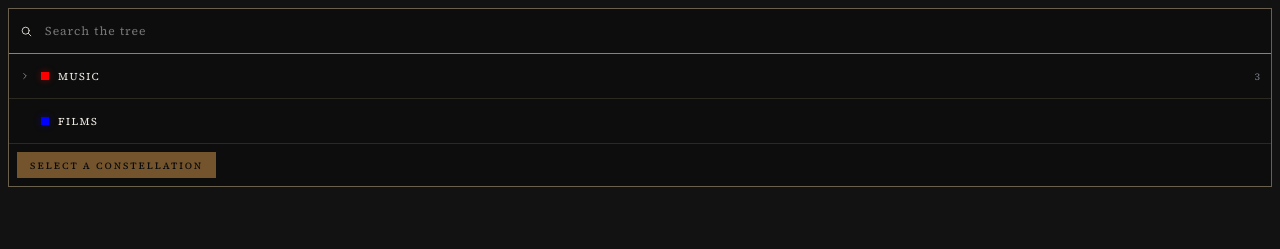
Scenario: ConstellationPicker › search in the tree › keeps the tree, unfolds the branches to the matches, marks them and selects the first
Step 1. Type "jaz" into the field labelled "Search the tree" → x=654, y=31, box [37,9,1271,53]
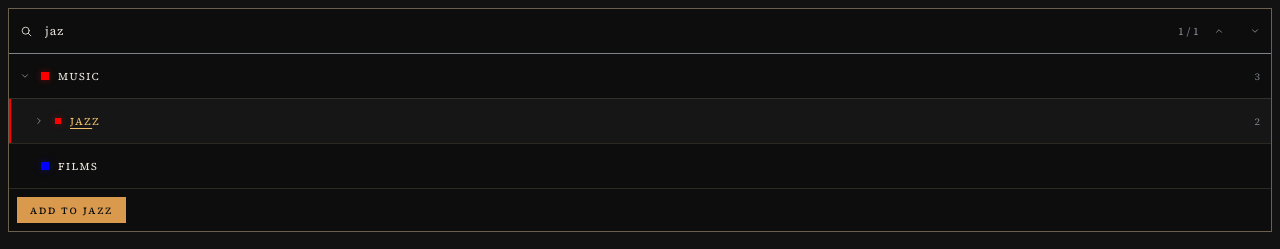
Expected: the text "1 / 1" is shown, [1178,24,1199,38]
Expected: the button "Add to Jazz" is enabled, [17,197,126,223]
